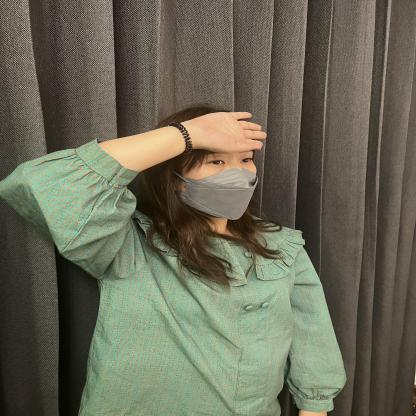Sick: (38, 82, 395, 173)
